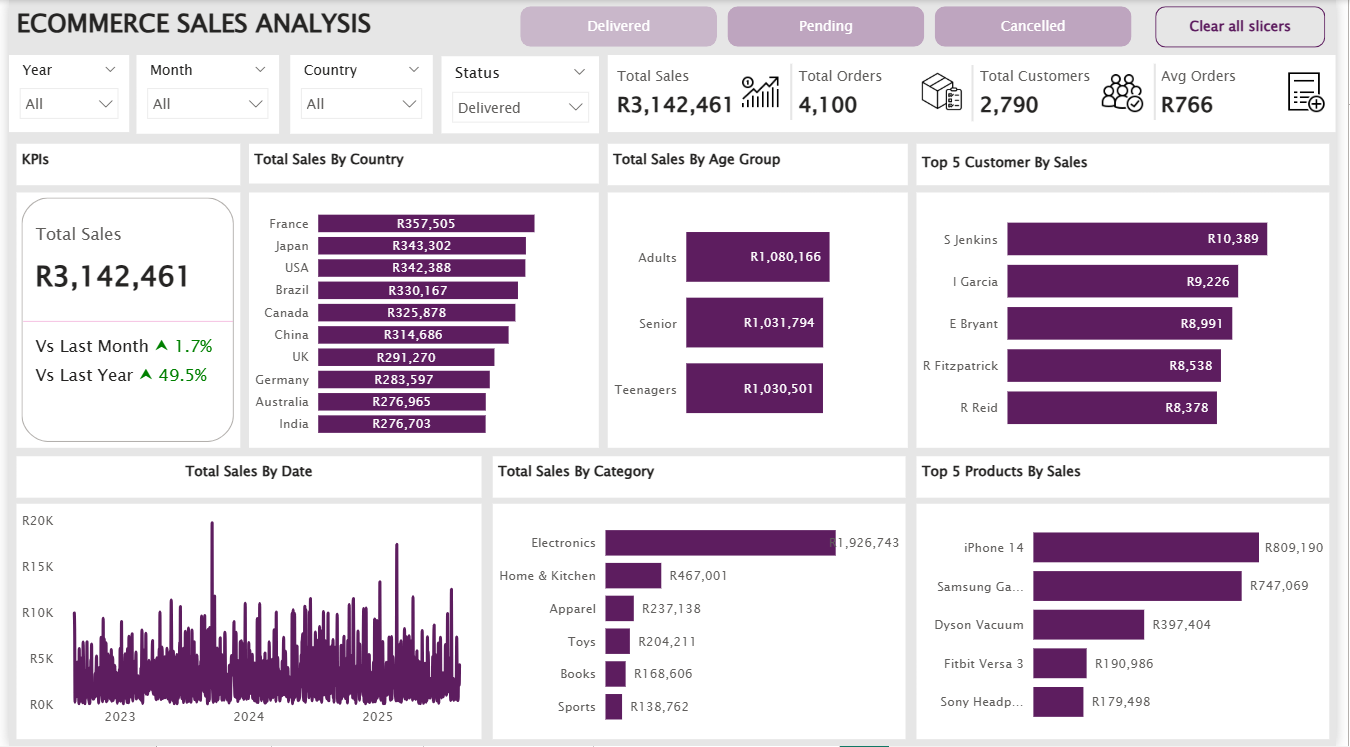

What the dashboard file says about the page in this screenshot:
{"tool":"powerbi","page":{"name":"Overview","canvas":[1280,720],"ordinal":0},"visuals":[{"type":"cardVisual","fields":{"Data":["My Measures.Total Sales","My Measures.Total Orders","My Measures.Total Customers","My Measures.Avg Order Values"]},"box":[577.9,53.1,702.1,74.8],"z":0,"group":"g1"},{"type":"barChart","fields":{"Category":["eCommerceData.country"],"Y":["My Measures.Total Sales"]},"box":[231.6,185.8,337.8,246.1],"z":0},{"type":"group","id":"g1","title":"Group 1","box":[577.9,53.1,702.1,74.8],"z":1000},{"type":"barChart","fields":{"Y":["My Measures.Total Sales"],"Category":["eCommerceData.category"]},"box":[466.9,486.2,398.1,226.8],"z":2000},{"type":"barChart","fields":{"Y":["My Measures.Total Sales"],"Category":["eCommerceData.product_name"]},"box":[875.9,486.2,398.1,226.8],"z":3000},{"type":"shape","box":[702.3,60.9,105.7,54.3],"z":3500,"group":"g1"},{"type":"shape","box":[1051.9,61.5,107.7,54.3],"z":4000,"group":"g1"},{"type":"barChart","fields":{"Y":["My Measures.Total Sales"],"Category":["eCommerceData.Full Name"]},"box":[875.9,185.8,398.1,246.1],"z":4000},{"type":"shape","box":[877.1,62.2,105.7,54.3],"z":4500,"group":"g1"},{"type":"lineChart","fields":{"Y":["My Measures.Total Sales"],"Category":["DateTable.Date"]},"box":[7.2,486.2,448.8,226.8],"z":5000},{"type":"slicer","fields":{"Values":["eCommerceData.country"]},"box":[271.4,53.1,137.5,76],"z":6000},{"type":"slicer","fields":{"Values":["DateTable.Year"]},"box":[0,53.1,115.8,74.8],"z":7000},{"type":"slicer","fields":{"Values":["DateTable.Month Name"]},"box":[123.1,53.1,137.5,76],"z":8000},{"type":"cardVisual","fields":{"Data":["My Measures.Total Sales"]},"box":[7.2,185.8,216,246.1],"z":9000},{"type":"textbox","box":[7.2,138.7,216,39.8],"z":10000},{"type":"textbox","box":[231.6,138.7,337.8,38.6],"z":11000},{"type":"textbox","box":[466.9,440.4,398.1,39.8],"z":12000},{"type":"textbox","box":[7.2,440.4,448.8,39.8],"z":13000},{"type":"textbox","box":[875.9,440.4,398.1,39.8],"z":14000},{"type":"textbox","box":[875.9,138.7,398.1,39.8],"z":15000},{"type":"clusteredBarChart","fields":{"Category":["eCommerceData.age_group"],"Y":["My Measures.Total Sales"]},"box":[577.9,185.8,289.5,246.1],"z":16000},{"type":"textbox","box":[577.9,138.7,289.5,39.8],"z":17000},{"type":"textbox","box":[7.2,0,435.5,54.3],"z":18000},{"type":"slicer","fields":{"Values":["eCommerceData.Group Status"]},"box":[417.4,54.3,152,74.8],"z":19000},{"type":"actionButton","box":[1106.3,6,164.1,39.8],"z":20000},{"type":"bookmarkNavigator","box":[493.4,6,591.2,39.8],"z":21000}]}

Visuals, with their boxes in screenshot pixels (x1, y1, x2, y2), scaled from the page's 1280x720 canvas onto the 1350x747 screenshot:
cardVisual - My Measures.Total Sales x My Measures.Total Orders: rect(610, 55, 1349, 133)
barChart - eCommerceData.country x My Measures.Total Sales: rect(244, 193, 601, 448)
"Group 1" group: rect(610, 55, 1349, 133)
barChart - My Measures.Total Sales x eCommerceData.category: rect(492, 504, 912, 740)
barChart - My Measures.Total Sales x eCommerceData.product_name: rect(924, 504, 1344, 740)
shape: rect(741, 63, 852, 120)
shape: rect(1109, 64, 1223, 120)
barChart - My Measures.Total Sales x eCommerceData.Full Name: rect(924, 193, 1344, 448)
shape: rect(925, 65, 1037, 121)
lineChart - My Measures.Total Sales x DateTable.Date: rect(8, 504, 481, 740)
slicer - eCommerceData.country: rect(286, 55, 431, 134)
slicer - DateTable.Year: rect(0, 55, 122, 133)
slicer - DateTable.Month Name: rect(130, 55, 275, 134)
cardVisual - My Measures.Total Sales: rect(8, 193, 235, 448)
textbox: rect(8, 144, 235, 185)
textbox: rect(244, 144, 601, 184)
textbox: rect(492, 457, 912, 498)
textbox: rect(8, 457, 481, 498)
textbox: rect(924, 457, 1344, 498)
textbox: rect(924, 144, 1344, 185)
clusteredBarChart - eCommerceData.age_group x My Measures.Total Sales: rect(610, 193, 915, 448)
textbox: rect(610, 144, 915, 185)
textbox: rect(8, 0, 467, 56)
slicer - eCommerceData.Group Status: rect(440, 56, 601, 134)
actionButton: rect(1167, 6, 1340, 48)
bookmarkNavigator: rect(520, 6, 1144, 48)
